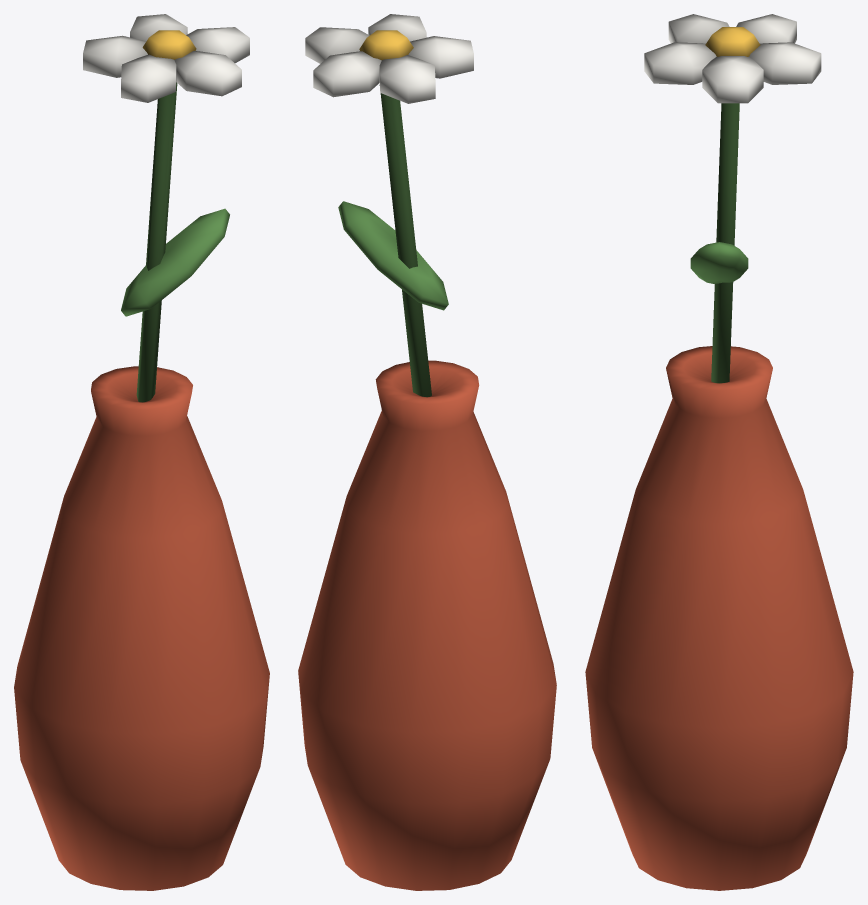
The model's file is vaseSmall.glb.
The picture shows the model from 3 angles, left to right: view 1: azimuth 30°, elevation 25°; view 2: azimuth 150°, elevation 25°; view 3: azimuth 270°, elevation 25°; orthographic projection. The views are drawn at different scales.
Visible parts, largest first — view 1: vaseSmall; view 2: vaseSmall; view 3: vaseSmall.
Part boxes in pixels (box(x1,y1,x2,y2)): vaseSmall: box(14, 14, 269, 890); vaseSmall: box(298, 14, 556, 890); vaseSmall: box(585, 14, 853, 890).
Size of the model in its own units: 0.08 by 0.2772 by 0.08.
